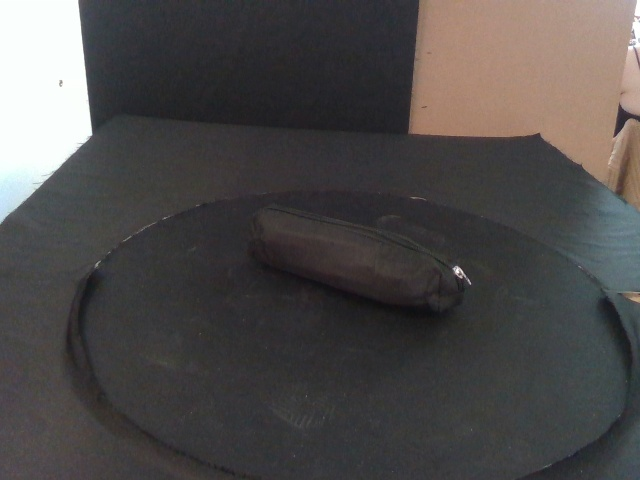pencil_case: (248, 204, 468, 315)
